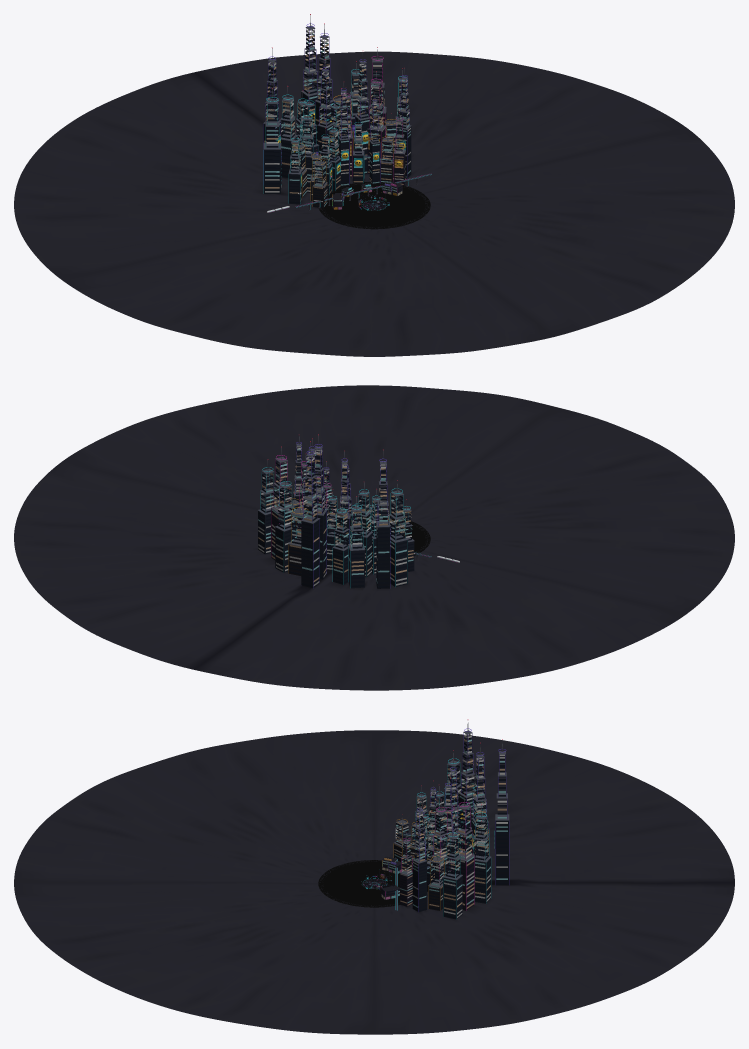
File: era4.glb
3 renders of one model, top to bottom at view 1: azimuth 30°, elevation 25°; view 2: azimuth 150°, elevation 25°; view 3: azimuth 270°, elevation 25°, orthographic.
Parts seen in each view (by area): view 1: terrain, grassmap, tower4.089, landmark, tower2.073, tower2.085, tower0.087, tower2.076, tower2.070, tower2.088, tower1.072, tower2.065 (+8 smaller); view 2: terrain, landmark, tower4.089, tower2.088, tower4.083, tower0.087, tower0.086, tower4.081, tower2.085, tower1.082, tower3.084, tower4.077 (+3 smaller); view 3: terrain, grassmap, landmark, tower1.082, tower4.081, tower4.083, tower2.070, tower2.088, tower2.085, tower1.072, tower3.071, tower1.061 (+1 smaller).
Part boxes in pixels (left/top/right/bottom): terrain: left=14, top=51, right=734, bottom=356; grassmap: left=319, top=182, right=430, bottom=229; tower4.089: left=263, top=88, right=281, bottom=193; landmark: left=301, top=14, right=319, bottom=139; tower2.073: left=355, top=52, right=370, bottom=174; tower2.085: left=315, top=23, right=334, bottom=143; tower0.087: left=280, top=86, right=297, bottom=178; tower2.076: left=317, top=59, right=333, bottom=161; tower2.070: left=397, top=68, right=411, bottom=178; tower2.088: left=263, top=47, right=280, bottom=184; tower1.072: left=367, top=71, right=385, bottom=173; tower2.065: left=337, top=82, right=349, bottom=186; terrain: left=14, top=385, right=734, bottom=690; landmark: left=301, top=441, right=320, bottom=588; tower4.089: left=388, top=480, right=408, bottom=586; tower2.088: left=376, top=449, right=390, bottom=588; tower4.083: left=275, top=473, right=296, bottom=572; tower0.087: left=348, top=496, right=365, bottom=588; tower0.086: left=332, top=501, right=349, bottom=584; tower4.081: left=257, top=459, right=275, bottom=554; tower2.085: left=310, top=434, right=326, bottom=579; tower1.082: left=271, top=446, right=291, bottom=560; tower3.084: left=288, top=500, right=309, bottom=575; tower4.077: left=354, top=482, right=373, bottom=577; terrain: left=14, top=730, right=734, bottom=1034; grassmap: left=318, top=860, right=427, bottom=907; landmark: left=494, top=739, right=509, bottom=885; tower1.082: left=453, top=793, right=474, bottom=910; tower4.081: left=443, top=825, right=462, bottom=919; tower4.083: left=473, top=804, right=491, bottom=903; tower2.070: left=412, top=801, right=426, bottom=912; tower2.088: left=458, top=719, right=475, bottom=851; tower2.085: left=471, top=742, right=488, bottom=853; tower1.072: left=431, top=799, right=451, bottom=880; tower3.071: left=428, top=850, right=444, bottom=910; tower1.061: left=400, top=833, right=412, bottom=906.
Bounding box in the file's own units: 440 × 97.54 × 440.
